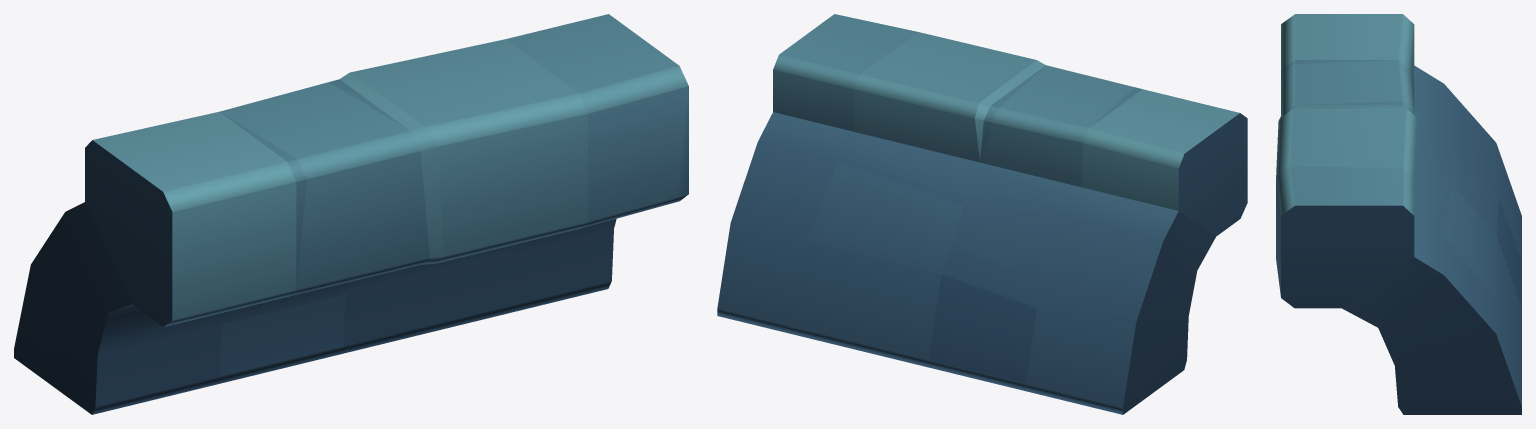
The model's file is wall_element_tileable_4meters_top.fbx.
3 views of the same model, side by side, from view 1: azimuth 30°, elevation 25°; view 2: azimuth 150°, elevation 25°; view 3: azimuth 270°, elevation 25° (orthographic). The views are drawn at different scales.
Parts seen in each view (by area): view 1: wall_element_tileable_4meters_top; view 2: wall_element_tileable_4meters_top; view 3: wall_element_tileable_4meters_top.
Part boxes in pixels (bbox=[...]): wall_element_tileable_4meters_top: bbox=[14, 14, 688, 414]; wall_element_tileable_4meters_top: bbox=[717, 14, 1247, 414]; wall_element_tileable_4meters_top: bbox=[1276, 14, 1521, 414].
Size of the model in its own units: 400 by 206 by 217.
